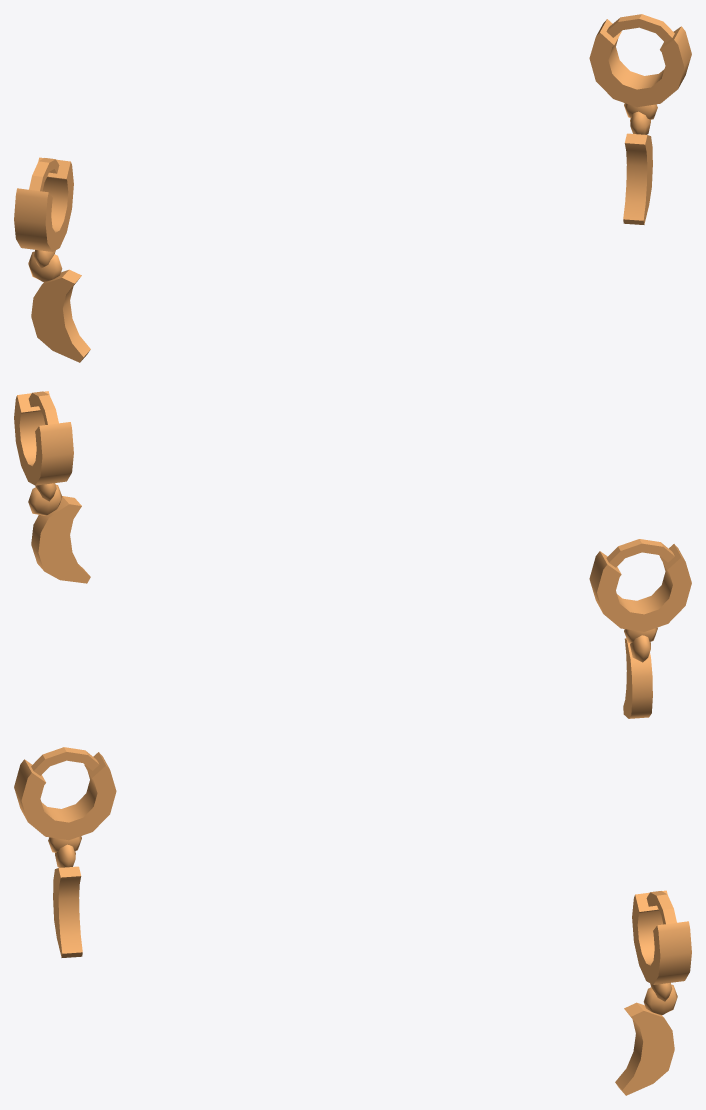
Rendered from Earring_22.fbx.
3 views of the same model, one above another, from view 1: azimuth 30°, elevation 25°; view 2: azimuth 150°, elevation 25°; view 3: azimuth 330°, elevation 25° (orthographic).
Visible parts, largest first — view 1: Earring_22; view 2: Earring_22; view 3: Earring_22.
Part boxes in pixels (x1=…): Earring_22: x1=14, y1=14, x2=691, y2=362; Earring_22: x1=14, y1=391, x2=691, y2=718; Earring_22: x1=14, y1=747, x2=691, y2=1095.
Size of the model in its own units: 57.17 by 15.33 by 6.63.
